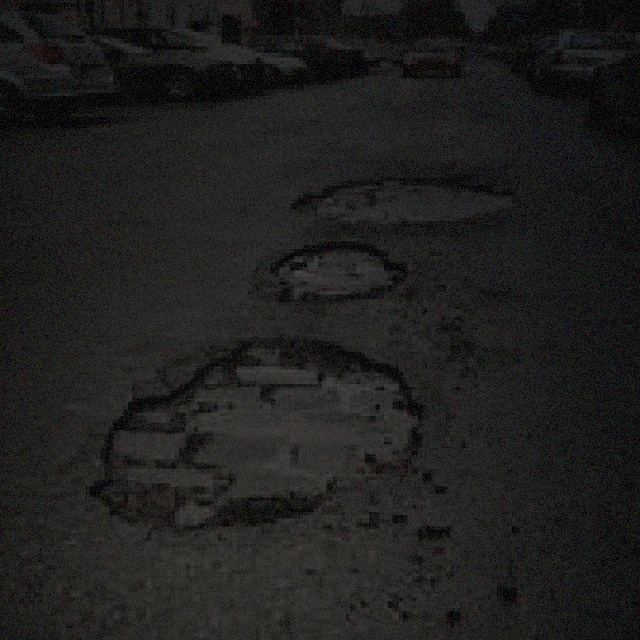pothole: (73, 330, 433, 540), (282, 172, 522, 225), (262, 243, 412, 304)
